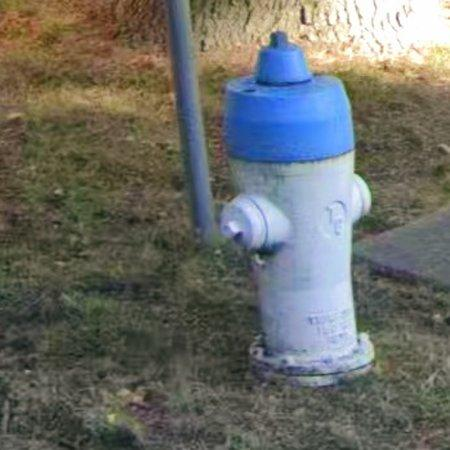a fire hydrant: (221, 31, 375, 386)
